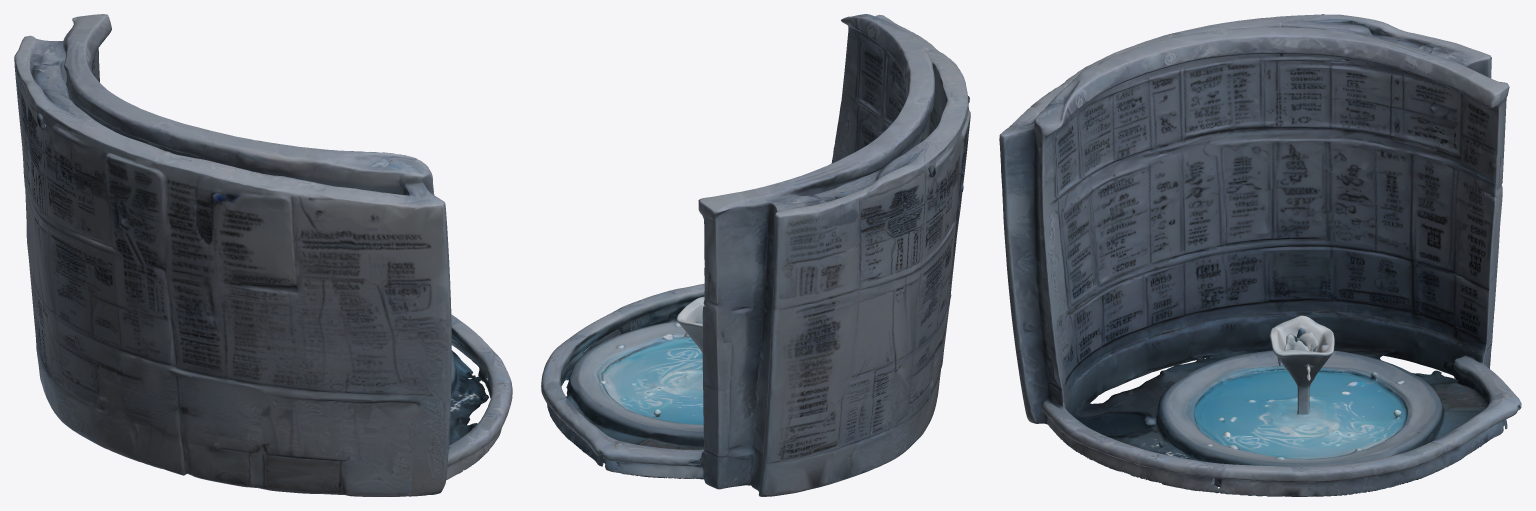
The model's file is plaza-memorial-wall.glb.
3 views of the same model, side by side, from view 1: azimuth 30°, elevation 25°; view 2: azimuth 150°, elevation 25°; view 3: azimuth 270°, elevation 25° (orthographic). The views are drawn at different scales.
Parts seen in each view (by area): view 1: tripo_node_fa7d1c03-43ff-422d-8bcb-5d89f2c18fb0; view 2: tripo_node_fa7d1c03-43ff-422d-8bcb-5d89f2c18fb0; view 3: tripo_node_fa7d1c03-43ff-422d-8bcb-5d89f2c18fb0.
Boxes of the visible parts, box(x1,y1,x2,y2) form: tripo_node_fa7d1c03-43ff-422d-8bcb-5d89f2c18fb0: box(14, 14, 512, 496); tripo_node_fa7d1c03-43ff-422d-8bcb-5d89f2c18fb0: box(541, 14, 970, 496); tripo_node_fa7d1c03-43ff-422d-8bcb-5d89f2c18fb0: box(999, 14, 1521, 496).
Size of the model in its own units: 5.09 by 4 by 6.03.
Materials: 1 (1 with a texture image).
